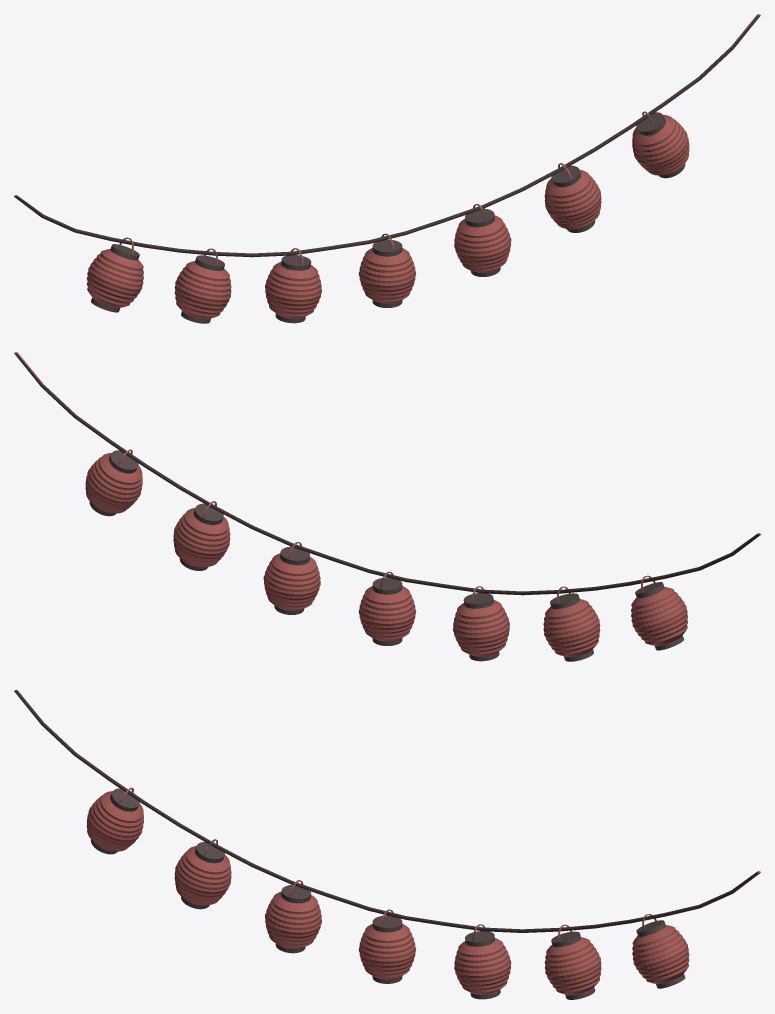
The model's file is titleLantern.obj.
3 views of the same model, one above another, from view 1: azimuth 30°, elevation 25°; view 2: azimuth 150°, elevation 25°; view 3: azimuth 330°, elevation 25° (orthographic).
Visible parts, largest first — view 1: 円柱.002; view 2: 円柱.002; view 3: 円柱.002.
Boxes of the visible parts, x1=… form: 円柱.002: x1=14, y1=14, x2=760, y2=323; 円柱.002: x1=14, y1=352, x2=760, y2=661; 円柱.002: x1=14, y1=690, x2=760, y2=999.
Size of the model in its own units: 31.59 by 7.95 by 2.11.
